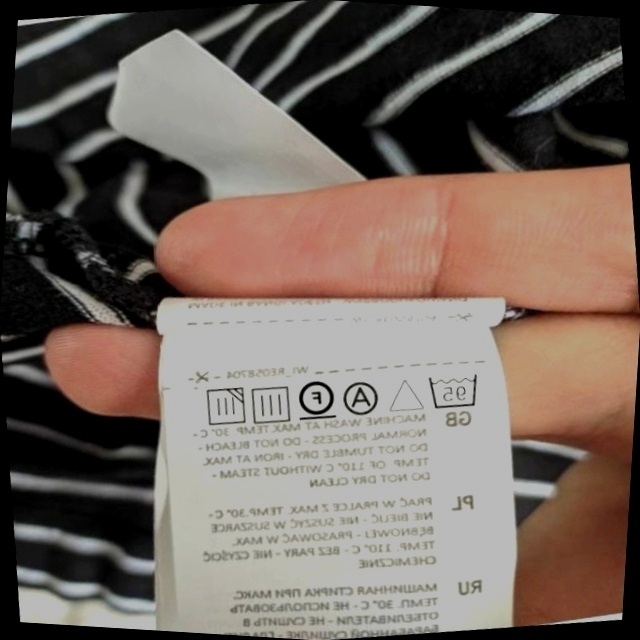95C: (423, 367, 484, 414)
bleach: (386, 371, 426, 417)
drip_dry: (246, 380, 295, 428)
drip_dry_in_shade: (198, 382, 249, 432)
dry_clean: (340, 377, 384, 419)
dry_clean_petrol_only: (293, 373, 339, 424)
